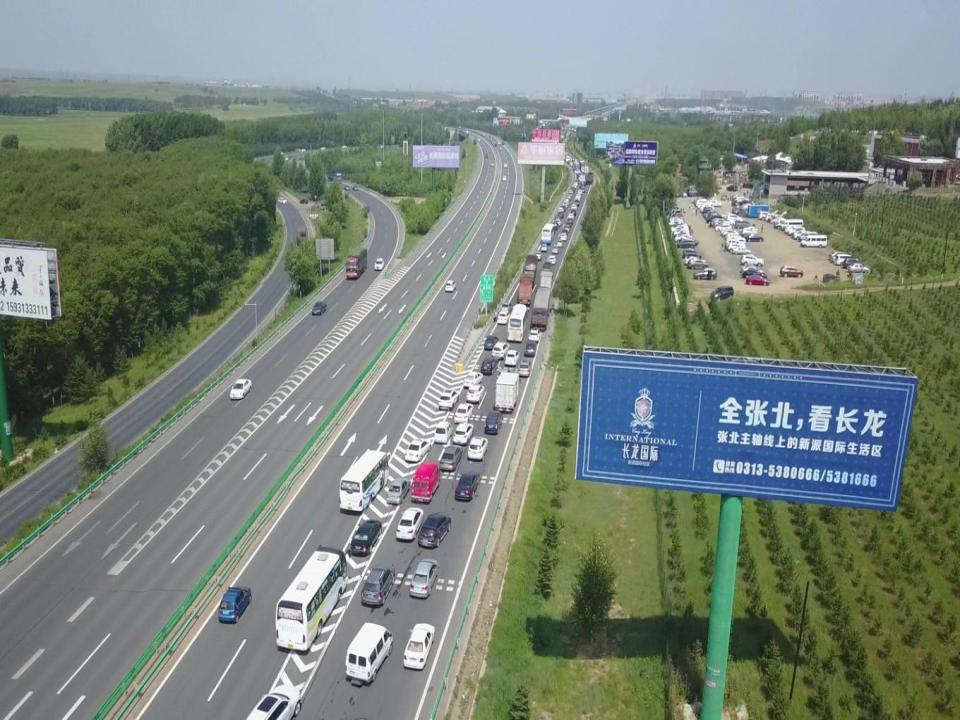bus: (276, 544, 352, 651), (339, 448, 391, 510), (507, 303, 529, 341), (540, 222, 556, 244)
car: (246, 684, 300, 720), (404, 622, 436, 670), (360, 564, 394, 606), (417, 510, 451, 549), (218, 585, 252, 623), (410, 558, 438, 597), (351, 519, 381, 555), (396, 507, 424, 540), (455, 470, 479, 500), (386, 477, 411, 503), (404, 438, 432, 461), (440, 444, 462, 470), (467, 437, 488, 460), (709, 280, 733, 300), (484, 409, 503, 434), (453, 423, 474, 445), (438, 389, 459, 410), (230, 379, 252, 399), (454, 402, 474, 422), (434, 421, 453, 442), (491, 340, 510, 360), (467, 383, 485, 403), (463, 371, 483, 389), (480, 356, 499, 374), (740, 253, 764, 266), (693, 267, 716, 280), (780, 265, 804, 277), (504, 349, 520, 366), (745, 274, 769, 285), (848, 262, 870, 273), (484, 335, 499, 351), (834, 254, 854, 266), (743, 270, 767, 280), (742, 262, 762, 274), (518, 359, 532, 376), (311, 301, 327, 315), (843, 258, 864, 268), (688, 259, 709, 269), (726, 238, 745, 249), (524, 340, 537, 356), (822, 272, 838, 285), (683, 248, 701, 259), (745, 233, 764, 243), (685, 256, 706, 265), (528, 328, 541, 342), (497, 310, 510, 324), (677, 238, 695, 248), (732, 246, 752, 255), (726, 243, 745, 252), (793, 231, 812, 240), (735, 219, 752, 229), (788, 226, 805, 236), (445, 279, 457, 292), (828, 250, 845, 259), (542, 259, 552, 274), (500, 302, 512, 314), (830, 254, 846, 263), (774, 221, 790, 230), (792, 230, 809, 238), (758, 210, 773, 219), (785, 224, 800, 233), (374, 257, 384, 270), (742, 225, 758, 233), (742, 228, 758, 235), (764, 214, 780, 221), (770, 217, 786, 224), (547, 254, 556, 266), (768, 215, 782, 222), (534, 251, 542, 261), (556, 239, 563, 248), (540, 244, 548, 251), (560, 233, 567, 241), (561, 229, 568, 237), (564, 221, 572, 228), (570, 204, 578, 211), (278, 197, 287, 203), (552, 246, 558, 254), (552, 222, 558, 230), (554, 216, 561, 222), (558, 211, 564, 218), (568, 213, 575, 219), (566, 217, 573, 223), (298, 199, 308, 203), (555, 219, 561, 225), (564, 199, 570, 205), (570, 210, 576, 216), (558, 207, 563, 214), (562, 201, 567, 208), (573, 201, 580, 206), (564, 226, 570, 231), (560, 205, 565, 211), (352, 186, 359, 190), (344, 186, 350, 190)
truck: (495, 368, 521, 413), (532, 286, 551, 330), (345, 246, 367, 279), (518, 273, 534, 307), (522, 253, 538, 285), (541, 270, 553, 295), (326, 170, 342, 184), (296, 224, 306, 245)
van: (345, 621, 393, 686), (411, 460, 440, 503), (800, 234, 826, 248), (781, 219, 803, 230), (799, 231, 818, 243)
